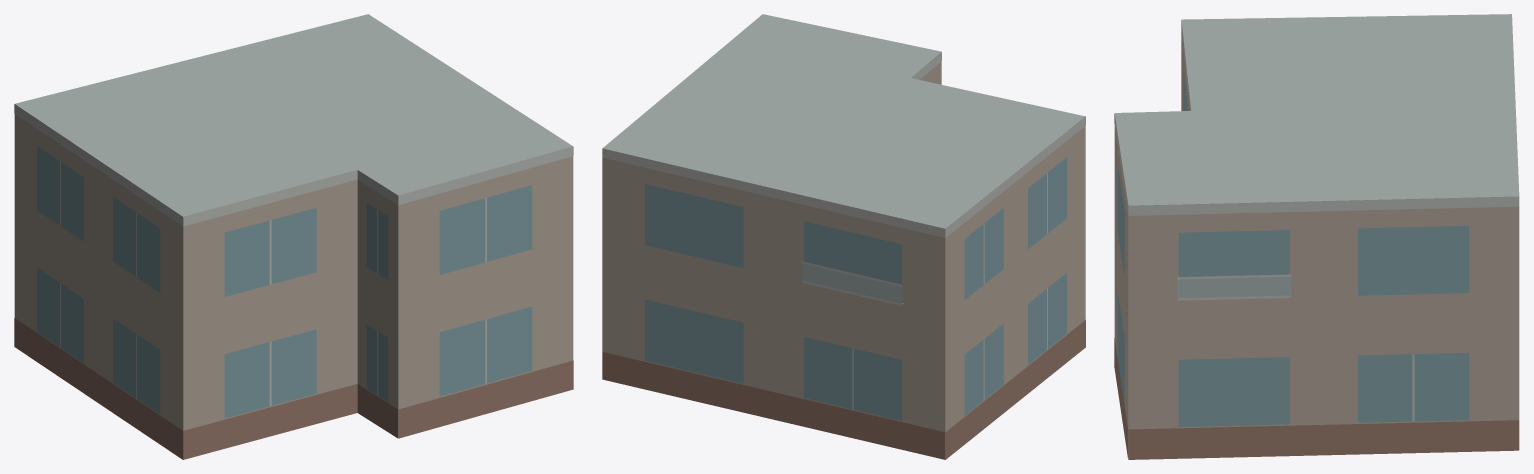
File: survey-upis-32618699.glb
The picture shows the model from 3 angles, left to right: view 1: azimuth 30°, elevation 25°; view 2: azimuth 150°, elevation 25°; view 3: azimuth 270°, elevation 25°; orthographic projection. The views are drawn at different scales.
Parts seen in each view (by area): view 1: survey-upis-32618699.tmp; view 2: survey-upis-32618699.tmp; view 3: survey-upis-32618699.tmp.
Boxes of the visible parts, x1,y1,x2,y2 form: survey-upis-32618699.tmp: [14, 14, 573, 459]; survey-upis-32618699.tmp: [602, 14, 1085, 459]; survey-upis-32618699.tmp: [1114, 14, 1519, 459].
Size of the model in its own units: 9.88 by 6.1 by 8.82.
